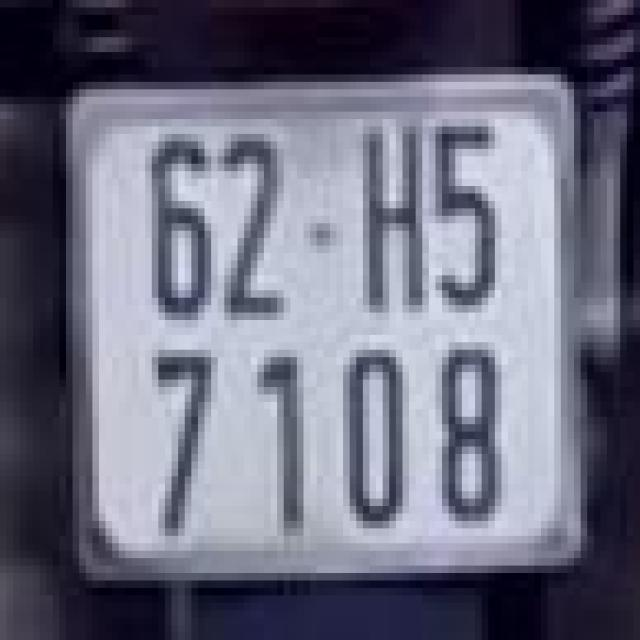0: (340, 338, 419, 540)
1: (244, 350, 323, 550)
2: (221, 123, 294, 331)
5: (439, 100, 505, 324)
6: (138, 130, 224, 331)
7: (128, 350, 228, 543)
8: (432, 342, 505, 536)
H: (350, 115, 436, 324)
